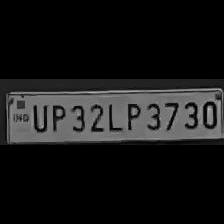0: (198, 97, 218, 129)
2: (86, 100, 106, 132)
3: (66, 100, 86, 134), (142, 98, 162, 132), (180, 98, 200, 130)
7: (161, 98, 179, 132)
L: (104, 98, 122, 132)
P: (46, 101, 66, 133), (122, 99, 142, 131)
U: (28, 100, 48, 132)
